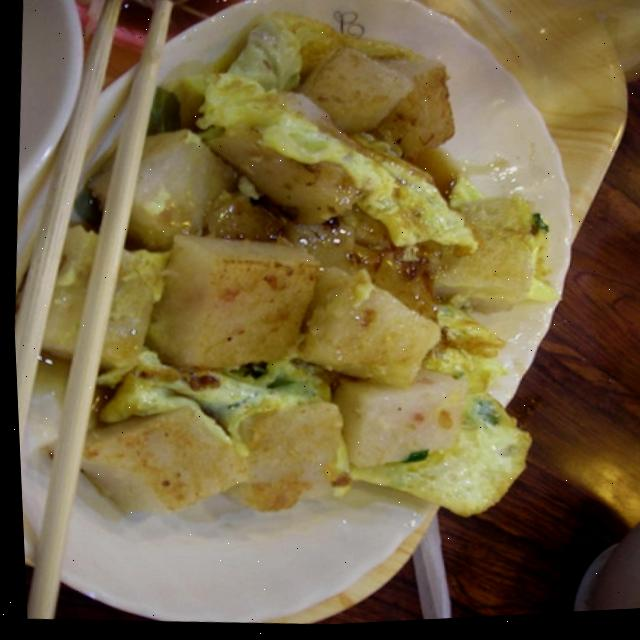蛋糕甜品: (0, 0, 621, 623)
